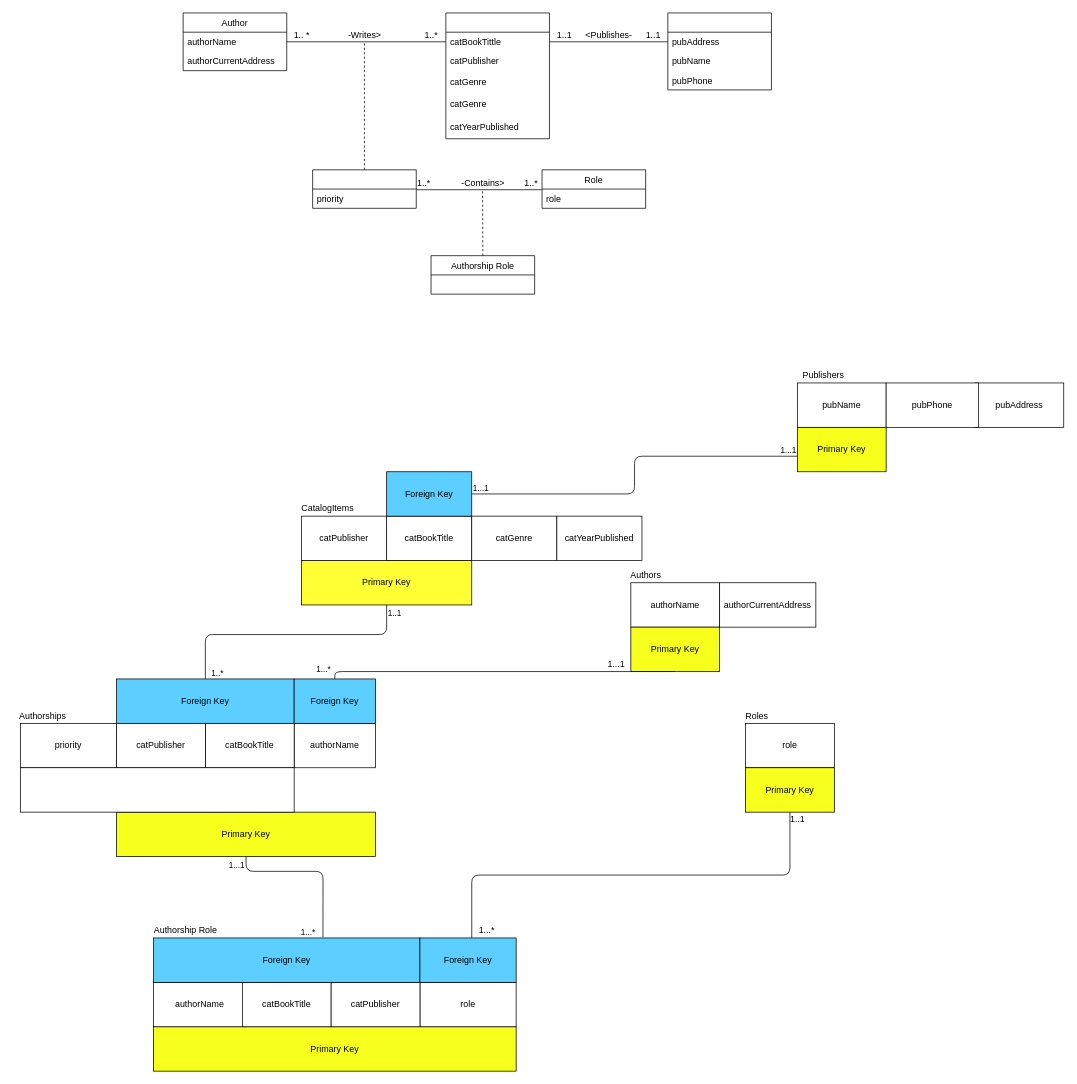
This 1077x1084 diagram has some shape labels left out. The box of each missing label's shape, as (x1, y1, x2, y2) in pixels:
Authorship: (312, 169, 416, 208)
Candidate Key: (20, 767, 294, 812)
Catalog Item: (445, 12, 549, 139)
Publisher: (667, 12, 771, 90)
